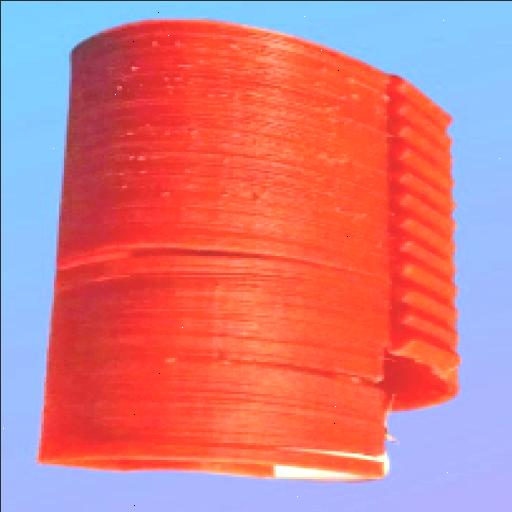cracks: (218, 340, 383, 405), (80, 225, 280, 277)
